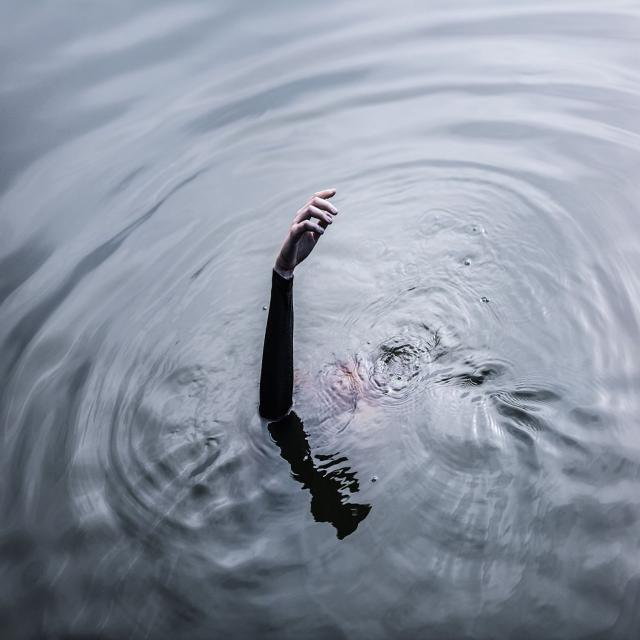drowning: (236, 131, 375, 528)
